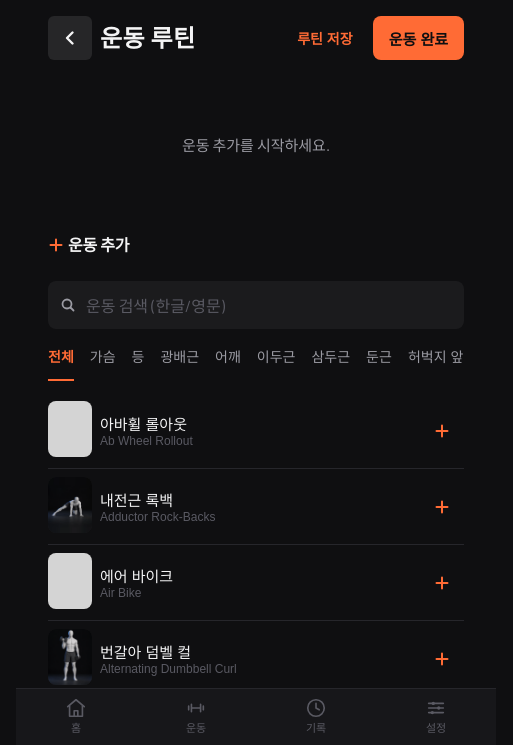
Test: 루틴 관리 (저장/수정/삭제) › 이미 있는 이름으로 저장하면 새 루틴이 생성되지 않고 기존 루틴을 업데이트한다
Later steps or results of the test are not shown.
Click the button with class "wl__save": (325, 38) [285,16,365,60]
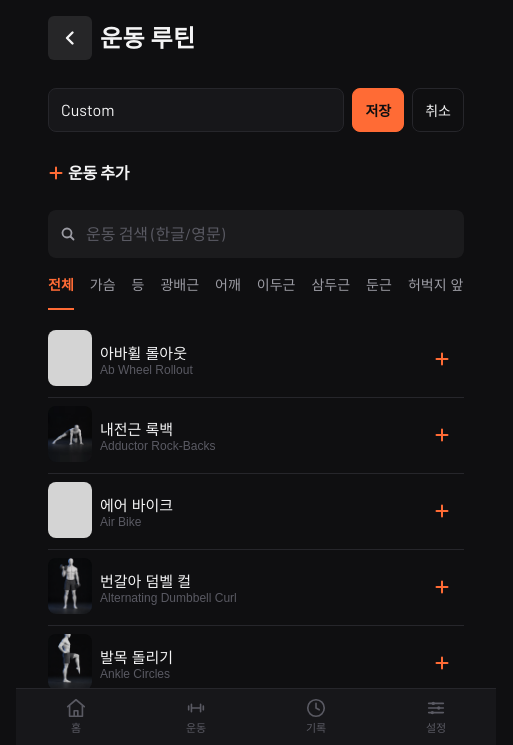
Now the field named "루틴 이름" is shown, box [48,88,344,132]
